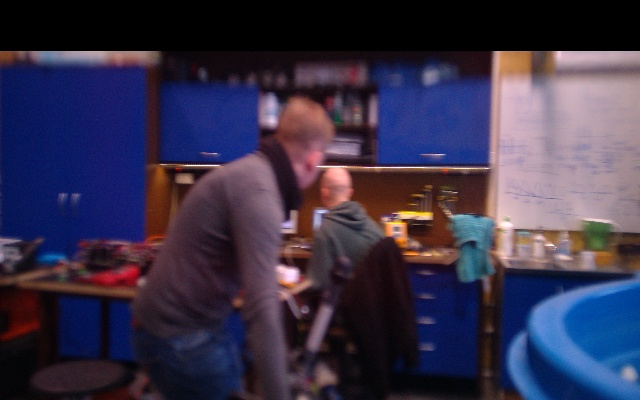black: (301, 302, 338, 368)
